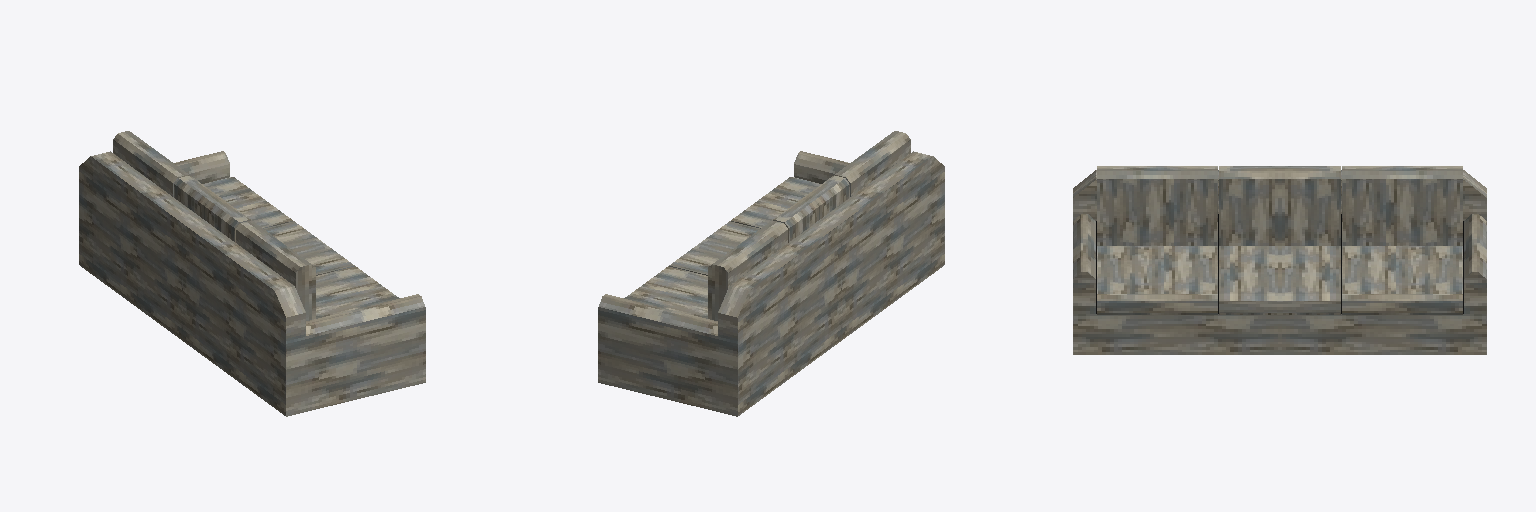
The picture shows the model from 3 angles: view 1: azimuth 30°, elevation 25°; view 2: azimuth 150°, elevation 25°; view 3: azimuth 270°, elevation 25°; orthographic projection.
Parts seen in each view (by area): view 1: sofa_1; view 2: sofa_1; view 3: sofa_1.
Part boxes in pixels (x1,y1,x2,y2): sofa_1: (79,131,425,416); sofa_1: (598,131,944,416); sofa_1: (1073,166,1486,354).
Size of the model in its own units: 3.68 by 3.23 by 9.
2 materials, 1 textured.